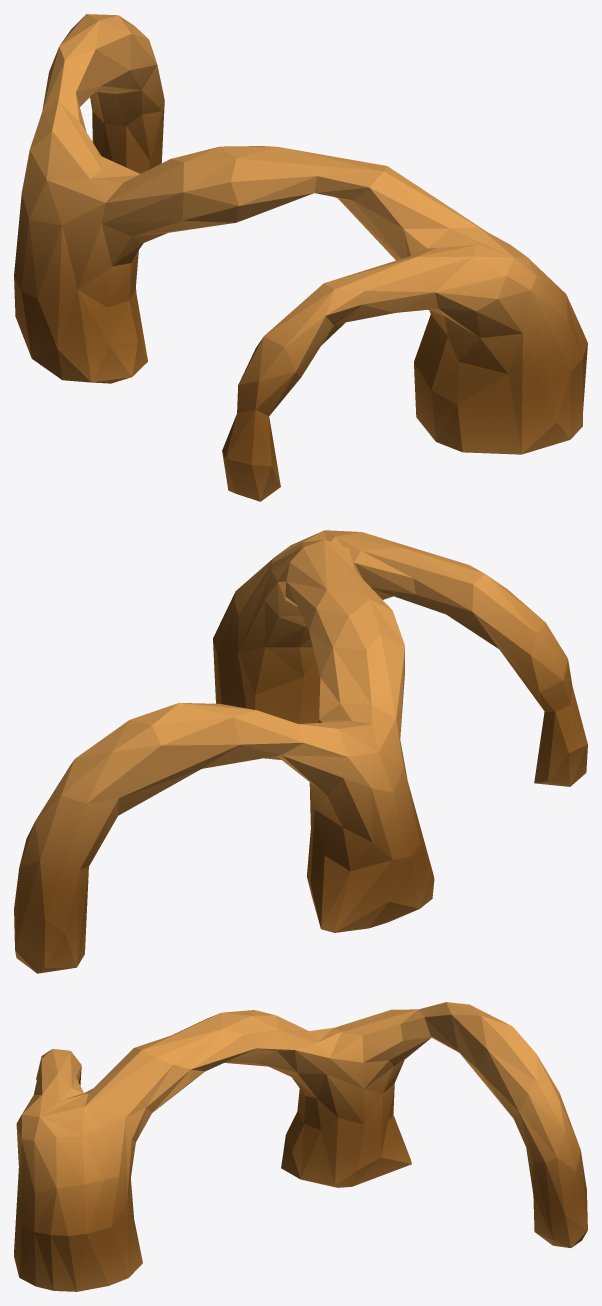
File: tripleArch 1.fbx
3 renders of one model, top to bottom at view 1: azimuth 30°, elevation 25°; view 2: azimuth 150°, elevation 25°; view 3: azimuth 270°, elevation 25°, orthographic. The views are drawn at different scales.
Visible parts, largest first — view 1: tripleArch; view 2: tripleArch; view 3: tripleArch.
Boxes of the visible parts, x1,y1,x2,y2 form: tripleArch: (14, 14, 587, 501); tripleArch: (14, 530, 587, 973); tripleArch: (14, 1002, 587, 1291).
Bounding box in the file's own units: 4829 × 3067 × 8110.
